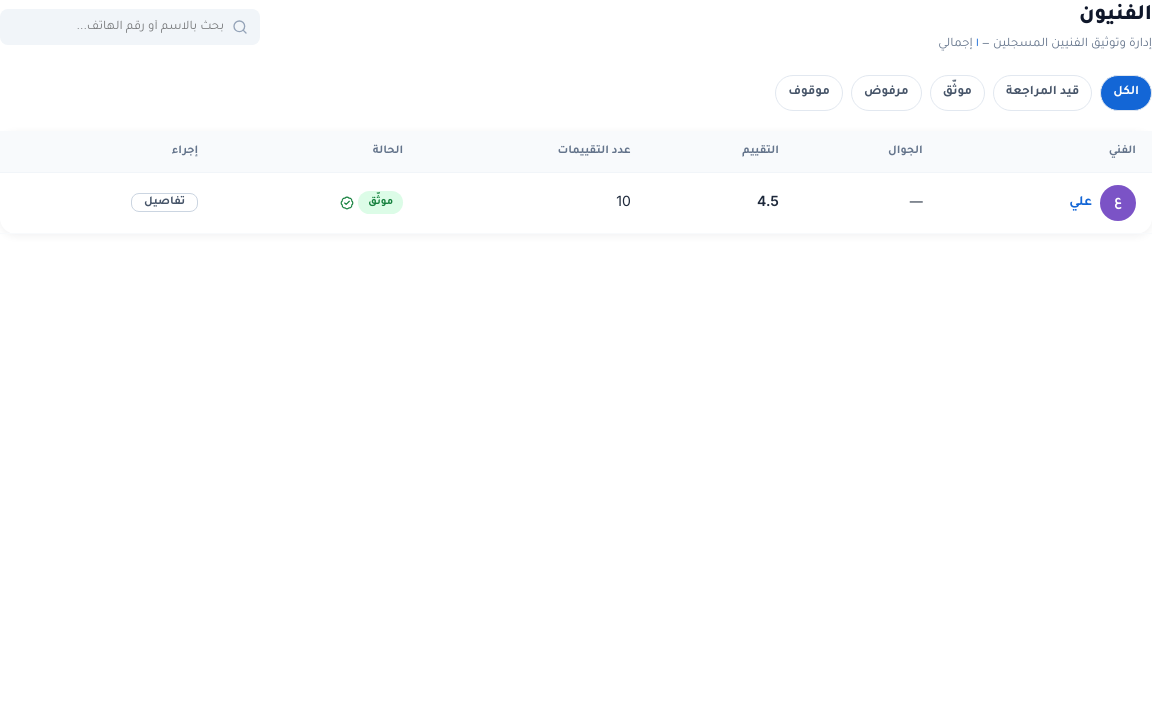
it: Technicians page (detail drawer scorecard + intro video) › shows the intro-video link and scorecard metrics once the drawer loads
Expected: the text "علي" is shown, [1069, 193, 1092, 213]
Click the button "تفاصيل". click: [165, 203]
box: [131, 193, 198, 212]
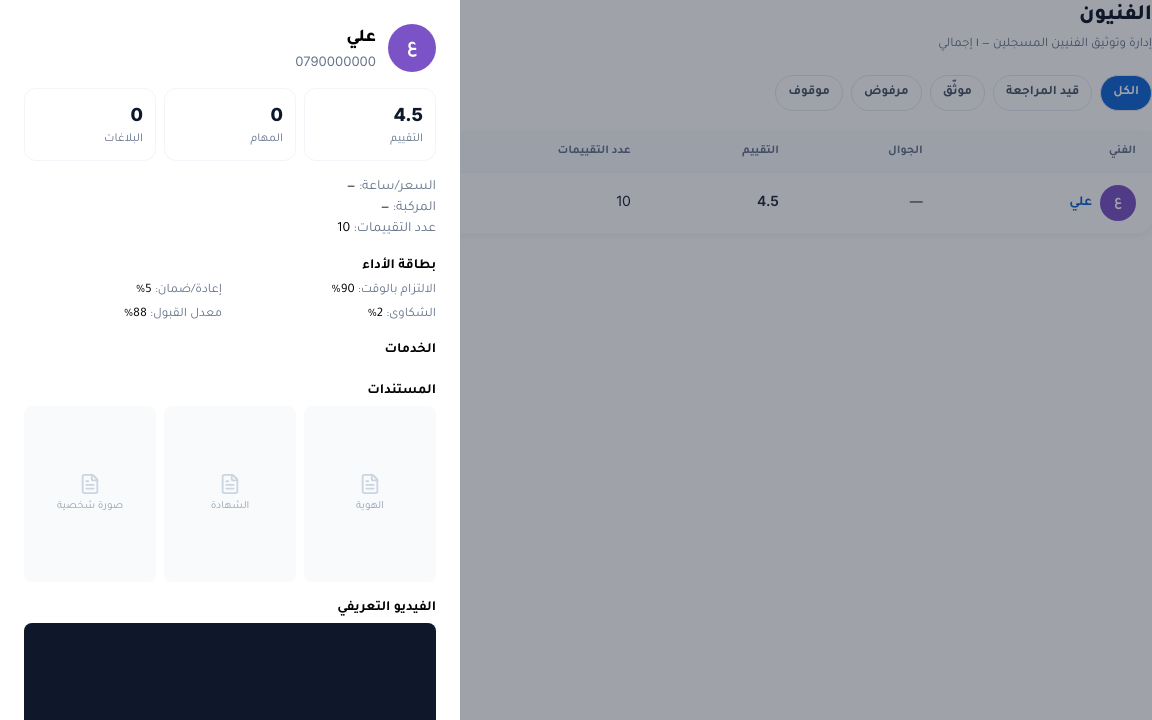
Result: the text "الفيديو التعريفي" is shown at [337, 601, 436, 615]
Result: the text "بطاقة الأداء" is shown at [362, 259, 436, 273]
Result: the text "90%" is shown at [332, 284, 436, 297]
